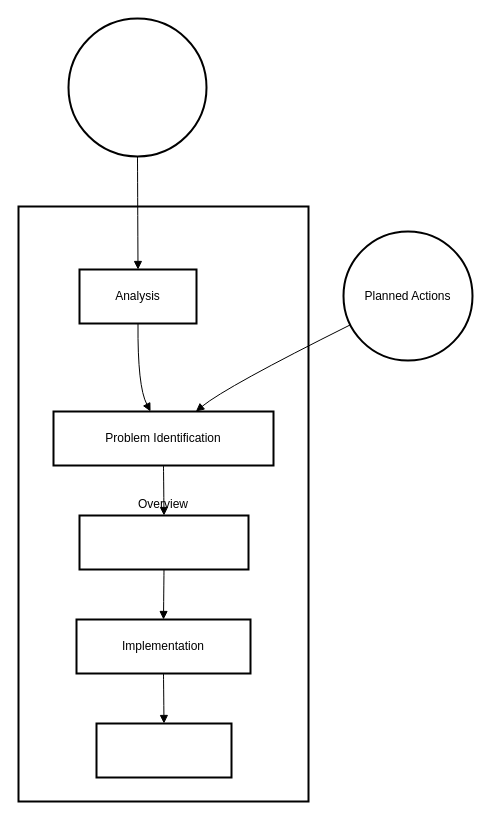
The diagram is 490 pixels wide and 819 high, and some of its shapes have lost their labels. The centre of each missing label's shape, as x and y in pixels:
"Current Situation" goes at point (137, 87).
"Evaluation" goes at point (163, 750).
"Solution Design" goes at point (163, 542).
